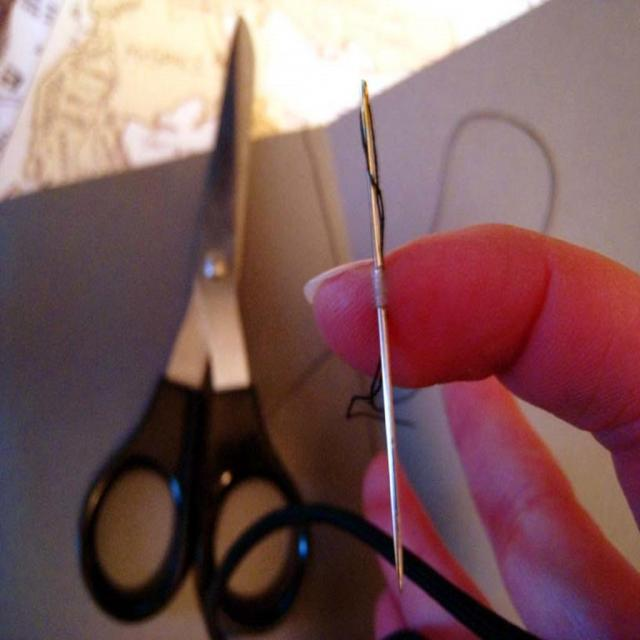scissor: (74, 9, 314, 639)
